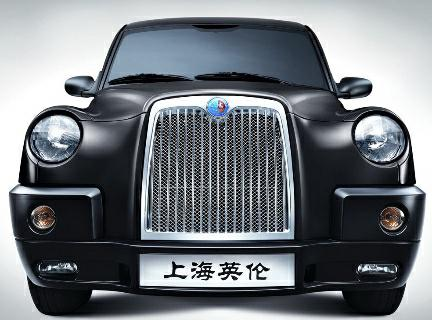吉利汽车-英伦TX4: (6, 10, 428, 319)
